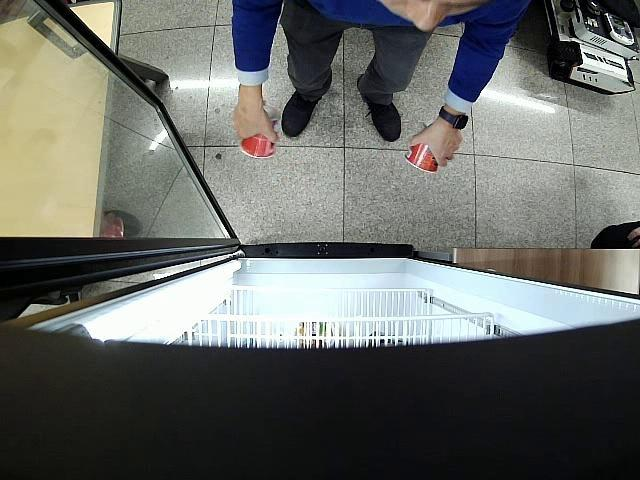02_shinRamen_S: (239, 104, 280, 158), (405, 144, 438, 172)
